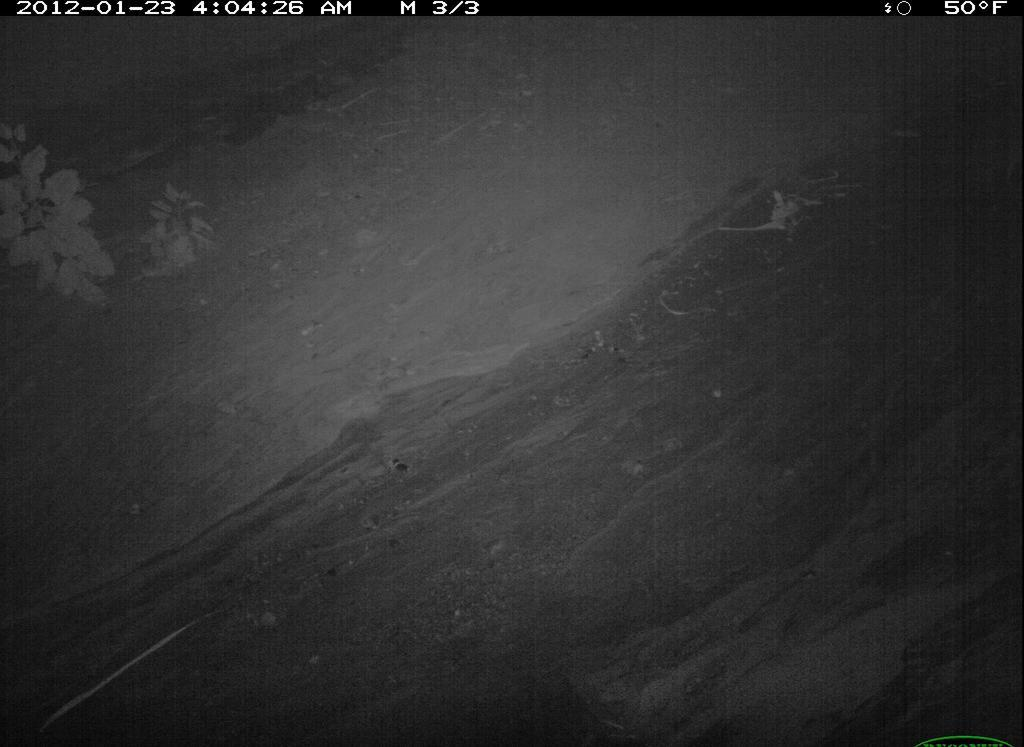raccoon: (3, 1, 1024, 747)
